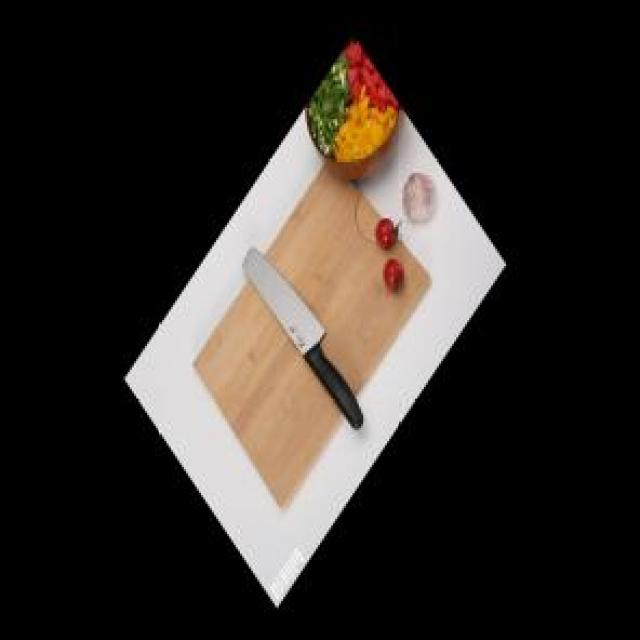knife: (242, 242, 363, 437)
